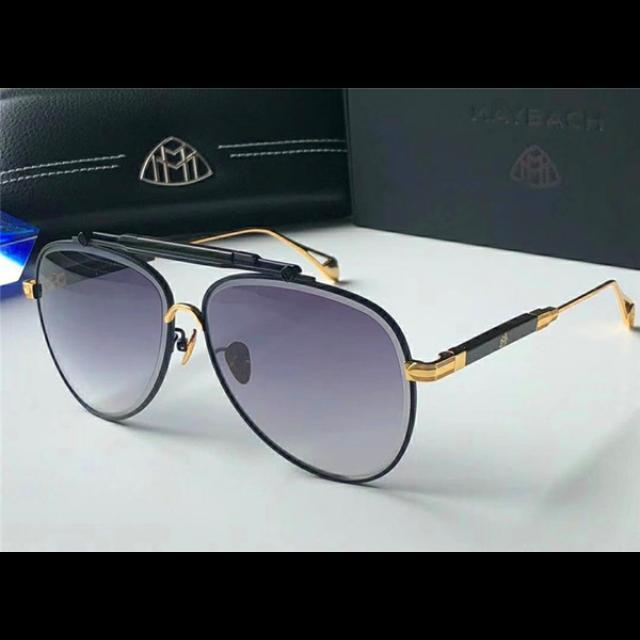sunglasses: (20, 228, 636, 482)
